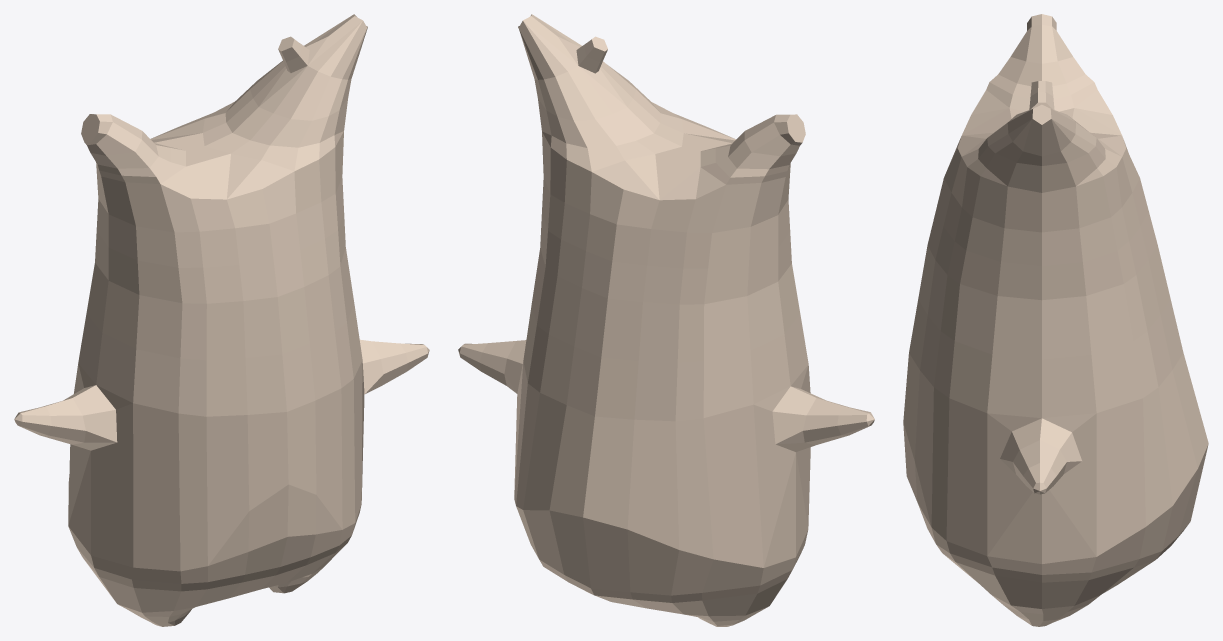
File: frame_0149.obj
The picture shows the model from 3 angles, left to right: view 1: azimuth 30°, elevation 25°; view 2: azimuth 150°, elevation 25°; view 3: azimuth 270°, elevation 25°; orthographic projection.
Visible parts, largest first — view 1: korok; view 2: korok; view 3: korok.
Boxes of the visible parts, x1,y1,x2,y2 form: korok: (14,14,429,626); korok: (458,14,874,626); korok: (903,14,1208,626).
Bounding box in the file's own units: 1.67 × 2.16 × 1.07.
